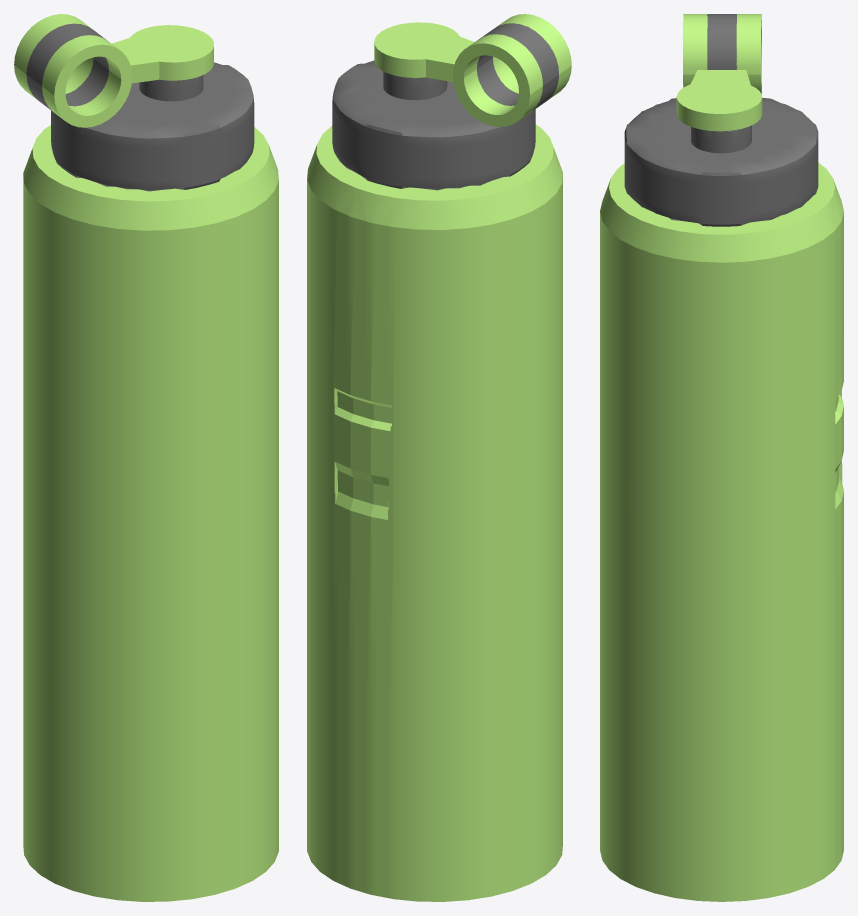
File: bottle.glb
3 views of the same model, side by side, from view 1: azimuth 30°, elevation 25°; view 2: azimuth 150°, elevation 25°; view 3: azimuth 270°, elevation 25° (orthographic). The views are drawn at different scales.
Visible parts, largest first — view 1: Cylinder; view 2: Cylinder; view 3: Cylinder.
Boxes of the visible parts, x1,y1,x2,y2 form: Cylinder: (14,14,278,901); Cylinder: (307,14,571,901); Cylinder: (600,14,843,901).
Size of the model in its own units: 2.05 by 7.21 by 2.
